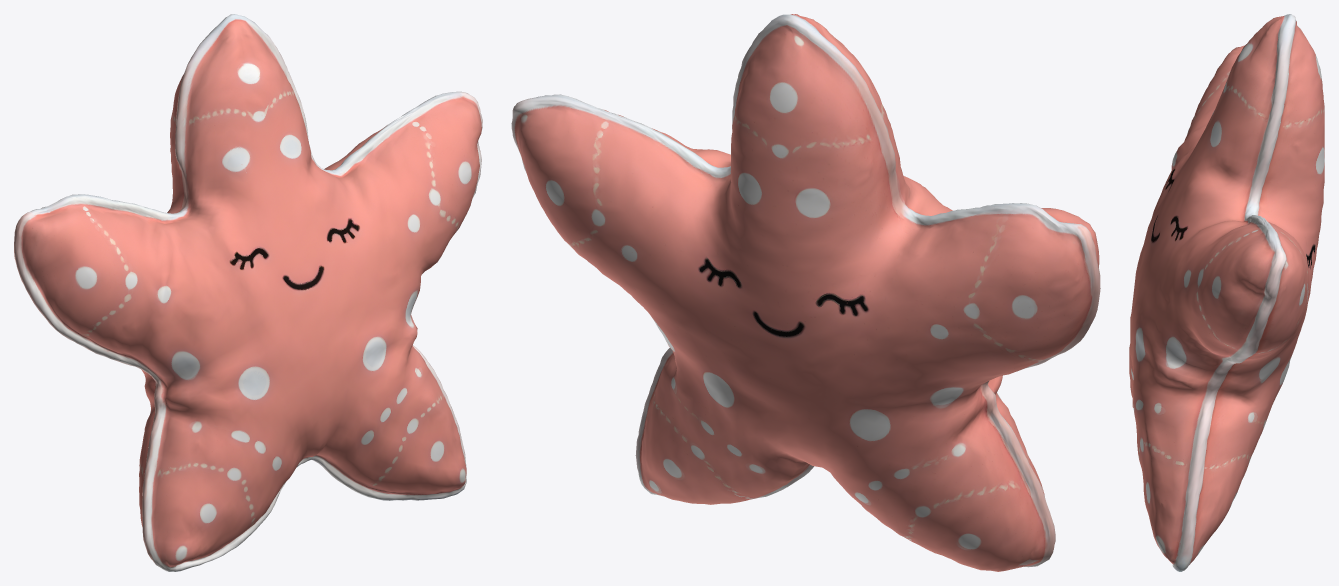
The model's file is starfish_plush.glb.
The picture shows the model from 3 angles, left to right: view 1: azimuth 30°, elevation 25°; view 2: azimuth 150°, elevation 25°; view 3: azimuth 270°, elevation 25°; orthographic projection. The views are drawn at different scales.
Bounding box in the file's own units: 1.91 × 1.84 × 0.6849.
Materials: 1 (1 with a texture image).
